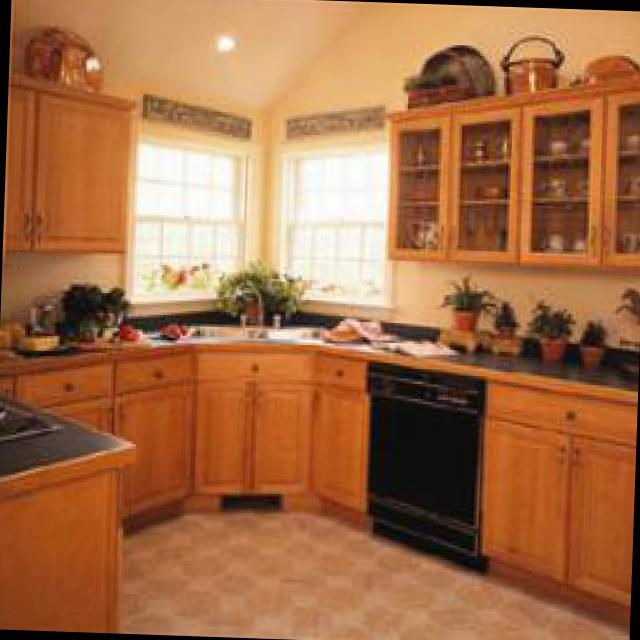2001: (136, 131, 256, 294), (286, 140, 394, 295)
basket crop: (504, 32, 572, 92), (424, 42, 498, 93)
book case: (374, 338, 456, 356)
cabinet door: (390, 73, 640, 269), (12, 69, 135, 248)
cabinets: (3, 343, 371, 533)
ceiling beam: (19, 0, 640, 106)
ceiling lamps: (217, 31, 242, 49)
counter bottom: (319, 328, 639, 389), (0, 389, 133, 481), (4, 316, 194, 374)
cup and saucer: (550, 173, 570, 194), (551, 136, 571, 151), (553, 231, 566, 246)
decorative plate: (29, 23, 106, 87)
dish towels: (327, 316, 387, 337)
dishwasher: (368, 359, 489, 571)
floor -X: (124, 510, 629, 640)
pitcher: (409, 217, 441, 244)
plant -x: (221, 261, 309, 321), (527, 300, 578, 361), (443, 275, 498, 330), (406, 69, 471, 103), (495, 294, 527, 350), (582, 315, 610, 362), (624, 318, 640, 374), (618, 283, 640, 316)
sink basin: (182, 323, 322, 340)
sink occluded: (237, 285, 285, 329)
stove burner: (1, 392, 69, 439)
